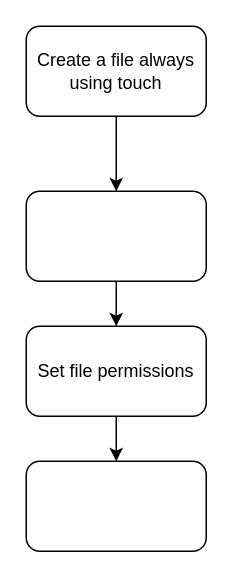
This 233x578 diagram has some shape labels left out. The box of each missing label's shape, as (x1, y1, x2, y2) in pixels:
Begin writing to file: (25, 460, 206, 551)
Set file inode: (25, 190, 206, 281)
